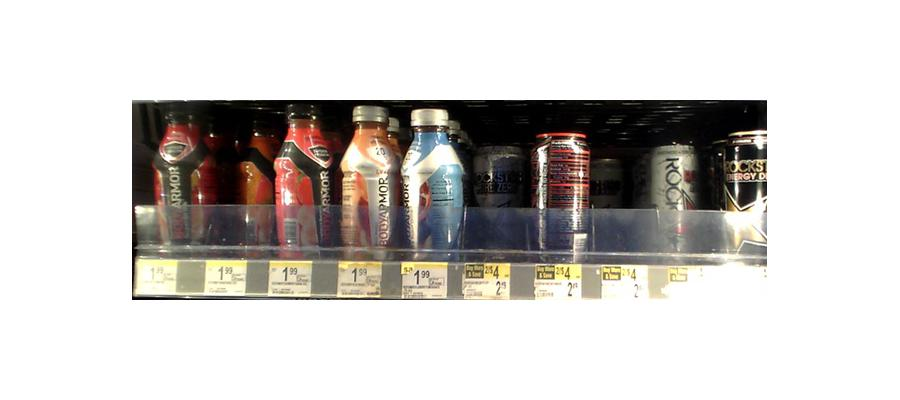bottle: (153, 98, 219, 249), (402, 106, 465, 263), (273, 98, 333, 258), (337, 104, 398, 258), (531, 132, 589, 262), (714, 125, 769, 261), (230, 101, 273, 254), (472, 145, 527, 253), (644, 143, 696, 251), (592, 154, 633, 260)
